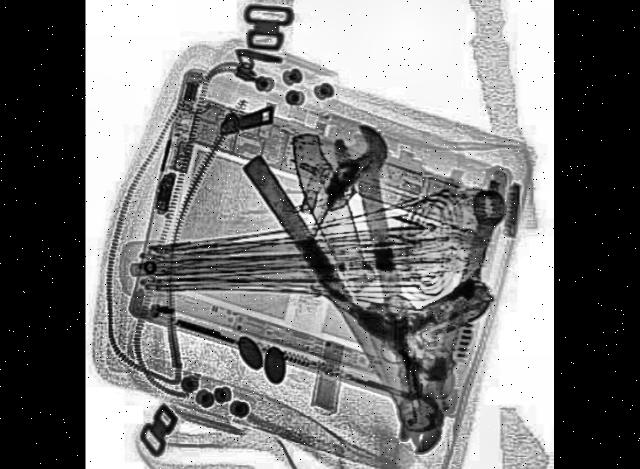Gun: (320, 214, 500, 392)
Knife: (245, 150, 436, 447), (284, 122, 432, 425)
Wrench: (333, 116, 452, 440), (398, 179, 513, 468)
